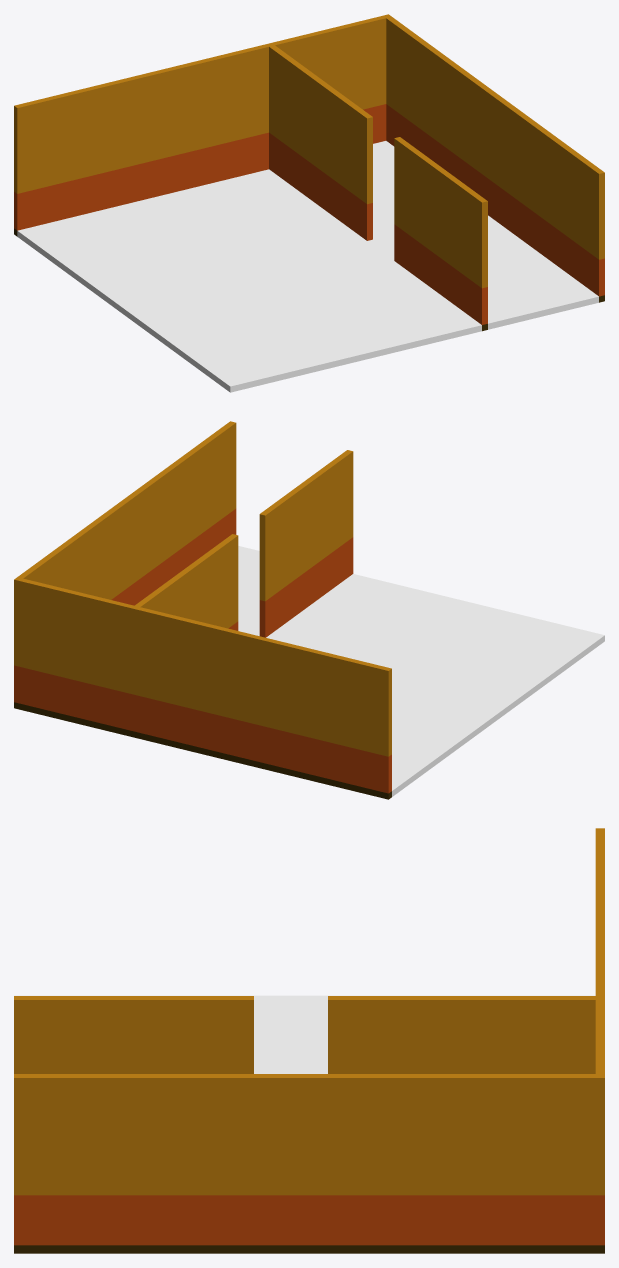
File: restorant.fbx
3 views of the same model, one above another, from view 1: azimuth 30°, elevation 25°; view 2: azimuth 150°, elevation 25°; view 3: azimuth 270°, elevation 25° (orthographic). The views are drawn at different scales.
Visible parts, largest first — view 1: Matrix; view 2: Matrix; view 3: Matrix.
Boxes of the visible parts, box(x1,y1,x2,y2) form: Matrix: box(14, 14, 604, 392); Matrix: box(14, 421, 604, 799); Matrix: box(14, 828, 604, 1253).
Size of the model in its own units: 64 by 21 by 64.
1 material, 1 textured.
